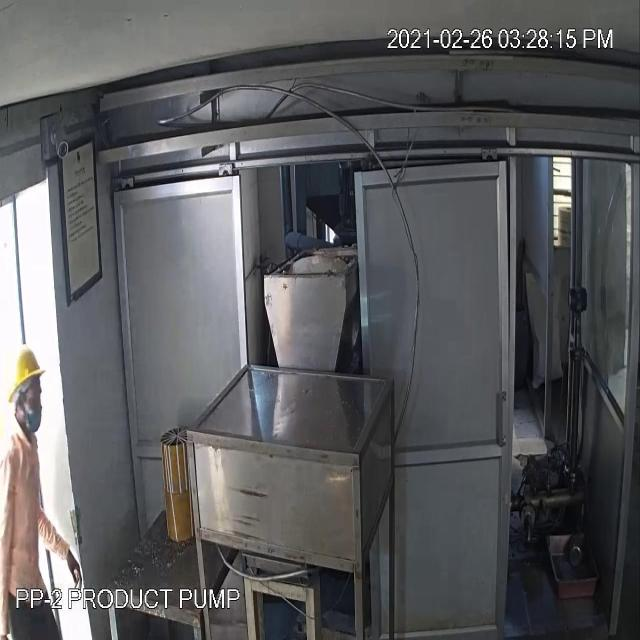helmet: (0, 332, 50, 406)
